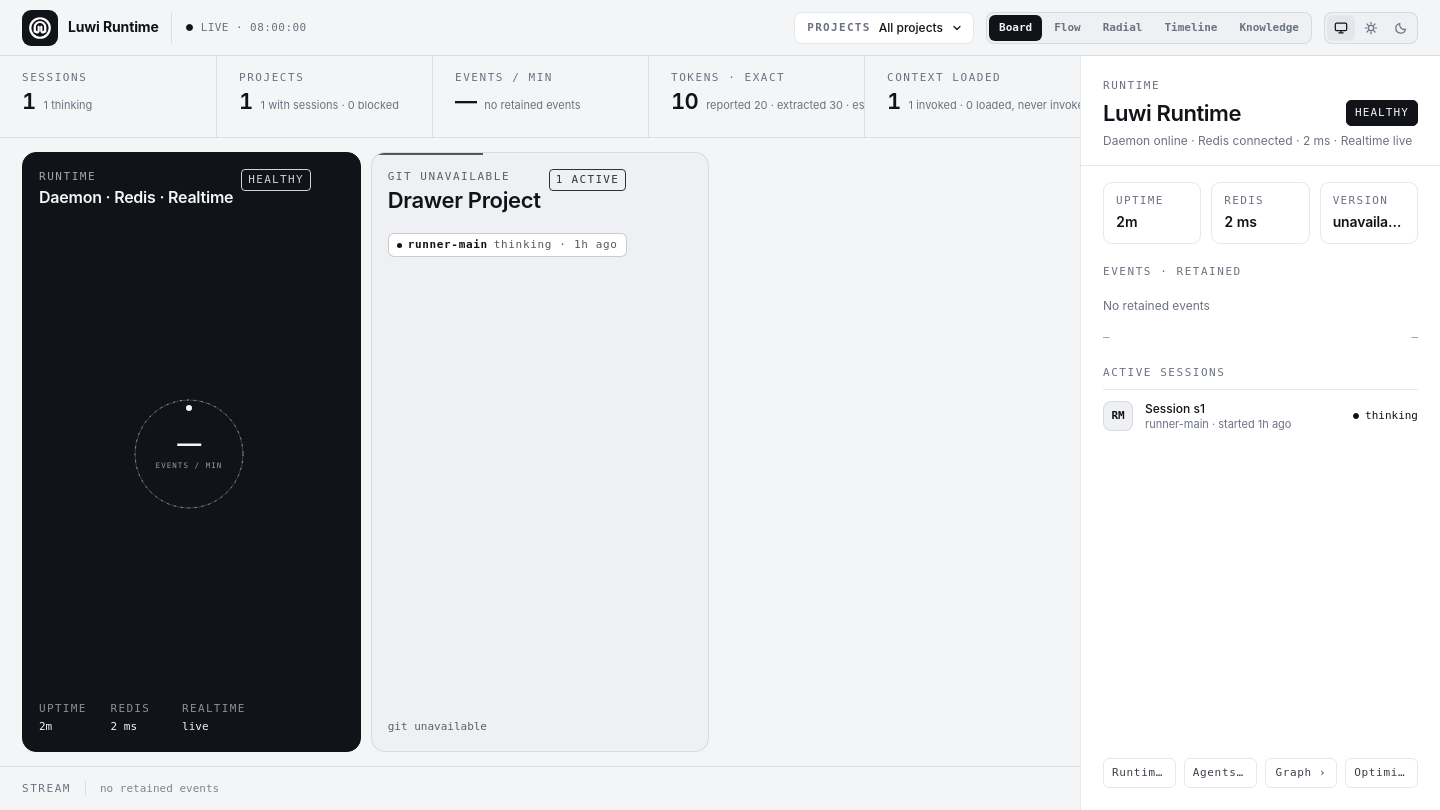
Test: project evidence drawer › dismisses the inspector before a routed project drawer opens
The width and height of the screenshot is (1440, 810).
What coordinates should you click on to do the following:
click the button with aria-label "Focus session s1"
I would click on:
 (1260, 416)
Its box is [1103,389,1418,443].
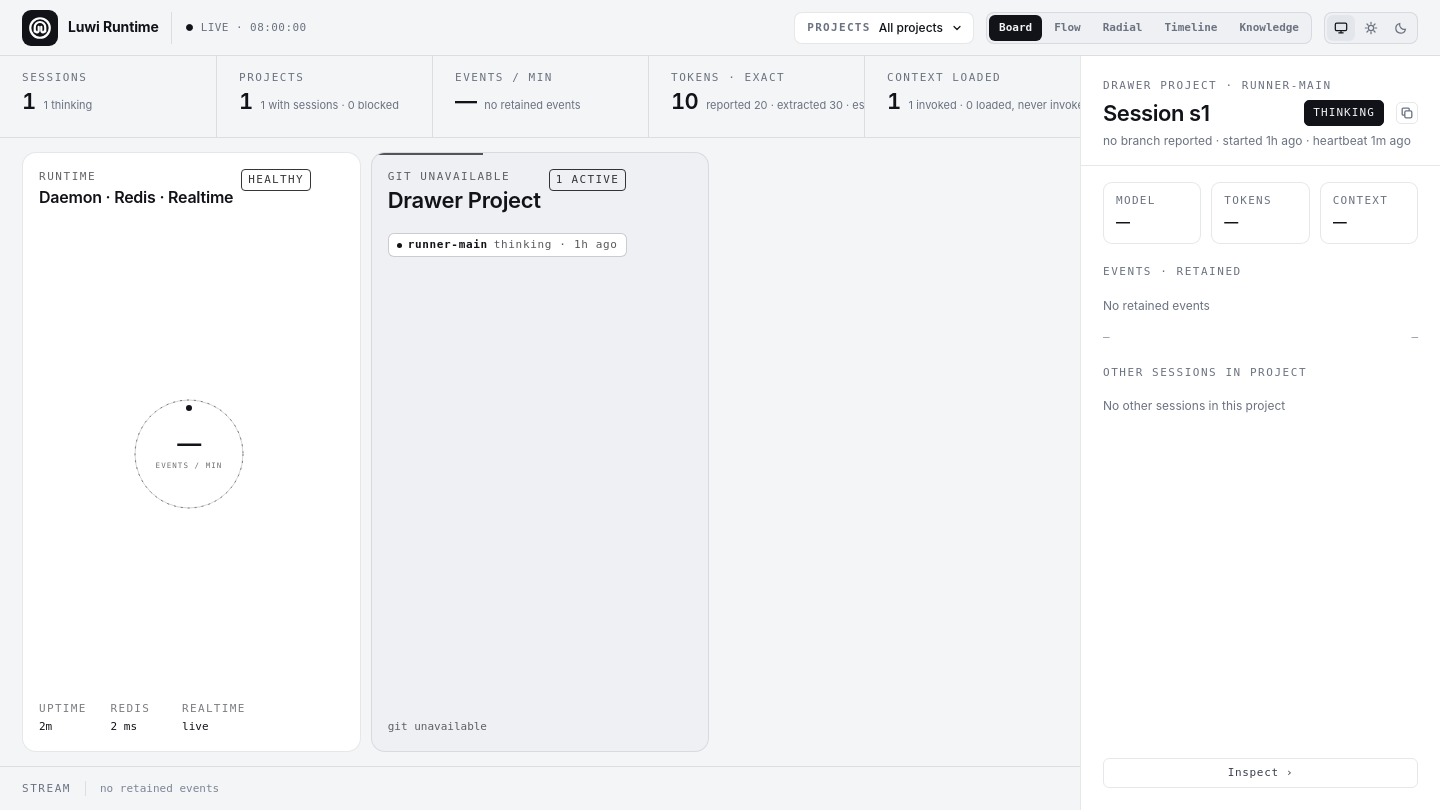
What coordinates should you click on to do the following:
click the button with aria-label "Inspect session s1"
I would click on:
 (1260, 773)
Its box is [1103,758,1418,788].
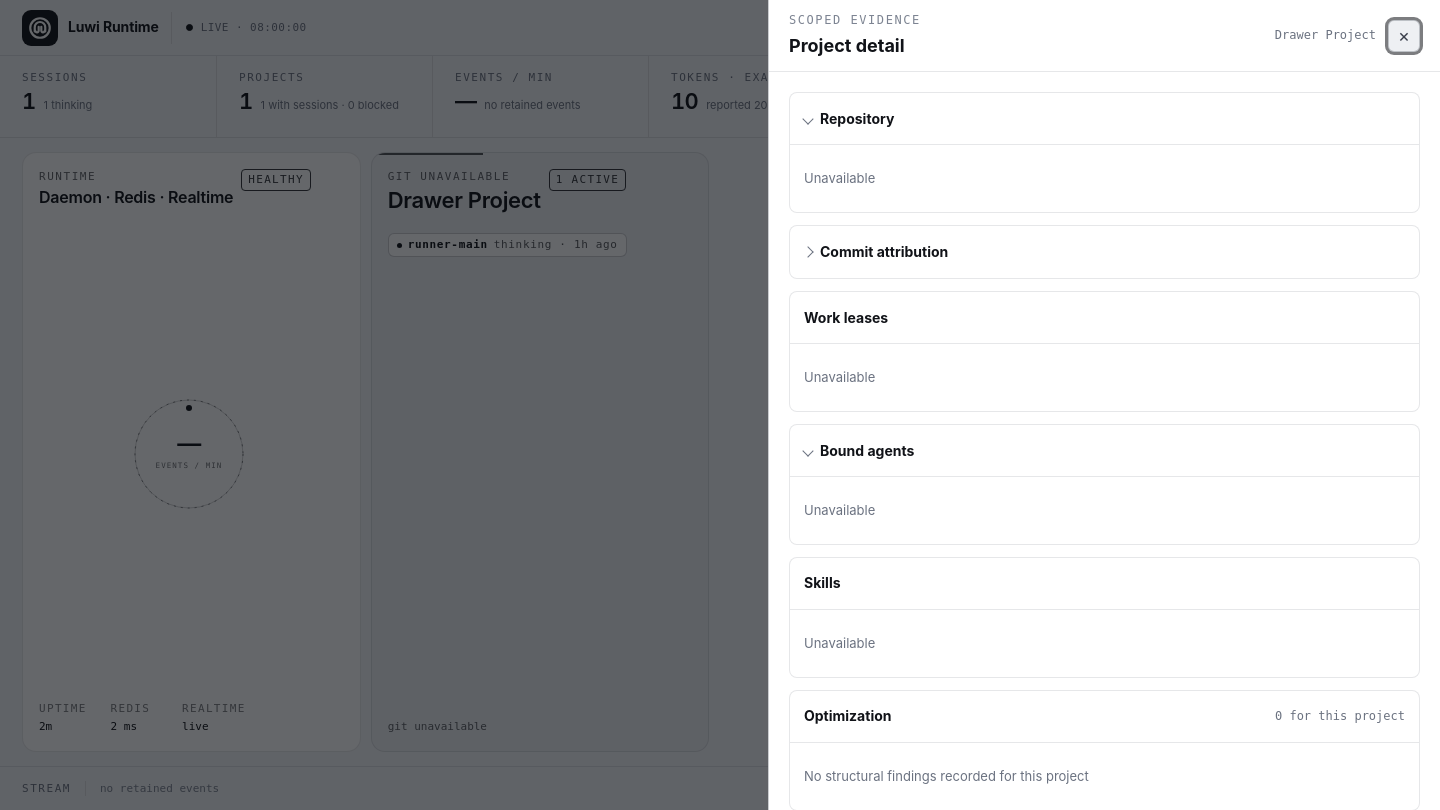
Now the number of dialogs is 1, box [768,0,1439,809]
